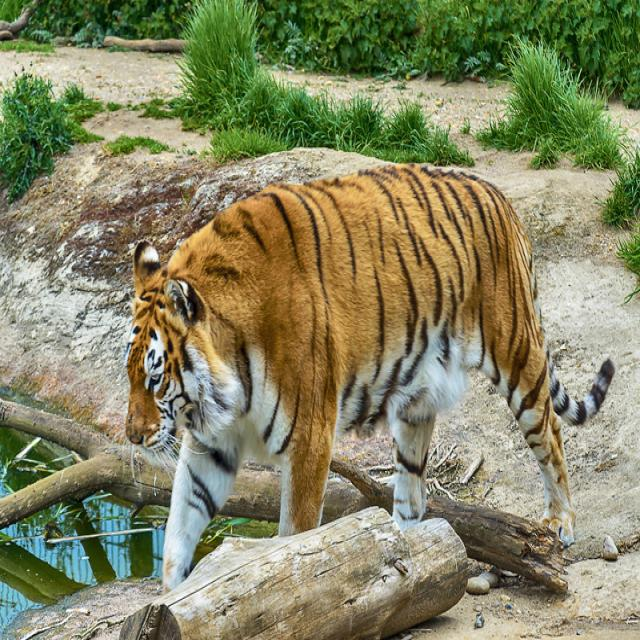Tiger: (113, 144, 613, 594)
